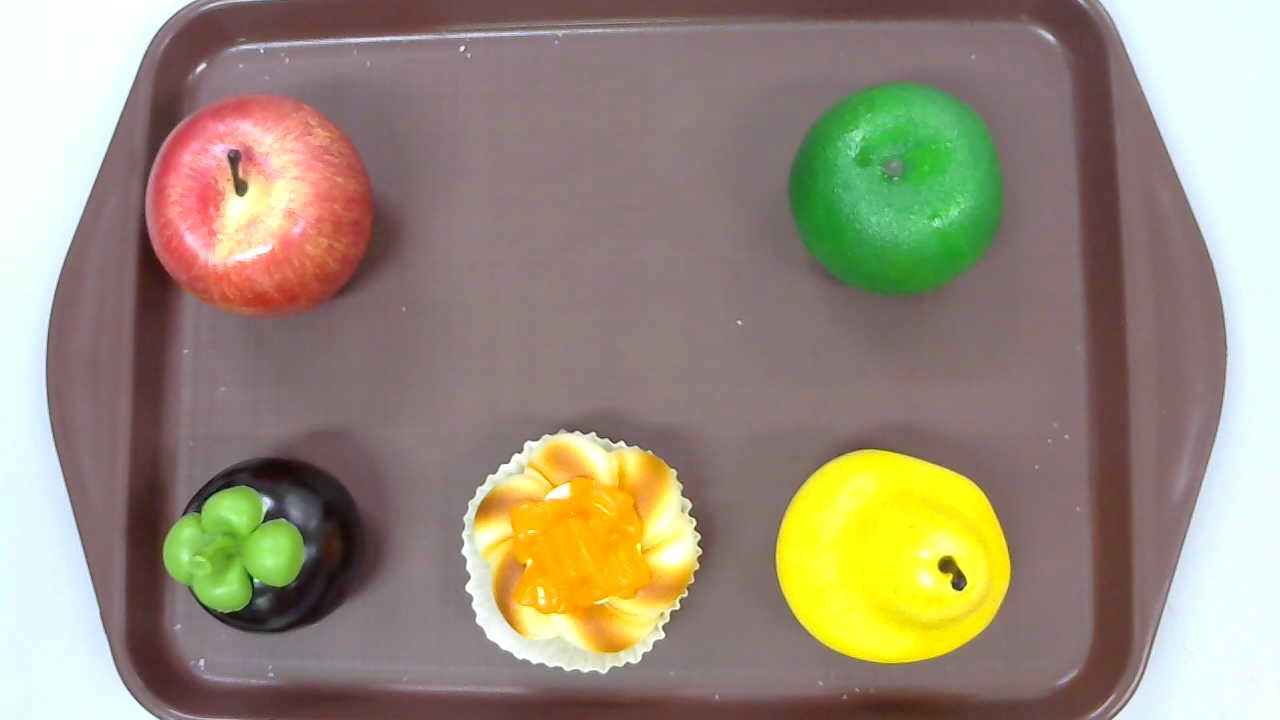green orange: (786, 80, 1003, 297)
mango tart: (461, 429, 703, 676)
mangosteen: (163, 459, 366, 635)
red apple: (143, 94, 377, 321)
yellow pear: (775, 448, 1011, 665)
